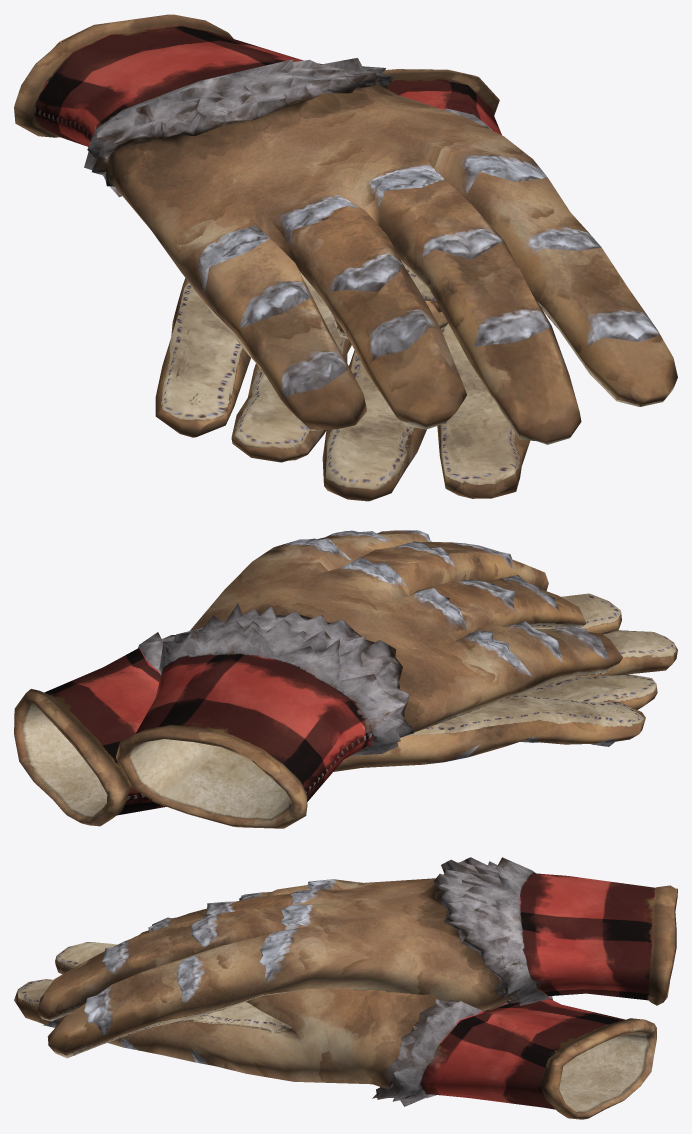
File: deer_gloves_folded.fbx
3 renders of one model, top to bottom at view 1: azimuth 30°, elevation 25°; view 2: azimuth 150°, elevation 25°; view 3: azimuth 270°, elevation 25°, orthographic. The views are drawn at different scales.
Visible parts, largest first — view 1: deer_gloves_collapsed; view 2: deer_gloves_collapsed; view 3: deer_gloves_collapsed.
Boxes of the visible parts, x1,y1,x2,y2 form: deer_gloves_collapsed: [14, 14, 677, 501]; deer_gloves_collapsed: [14, 530, 677, 828]; deer_gloves_collapsed: [14, 857, 677, 1119].
Bounding box in the file's own units: 18.13 × 6.79 × 25.11.
1 material, 1 textured.
